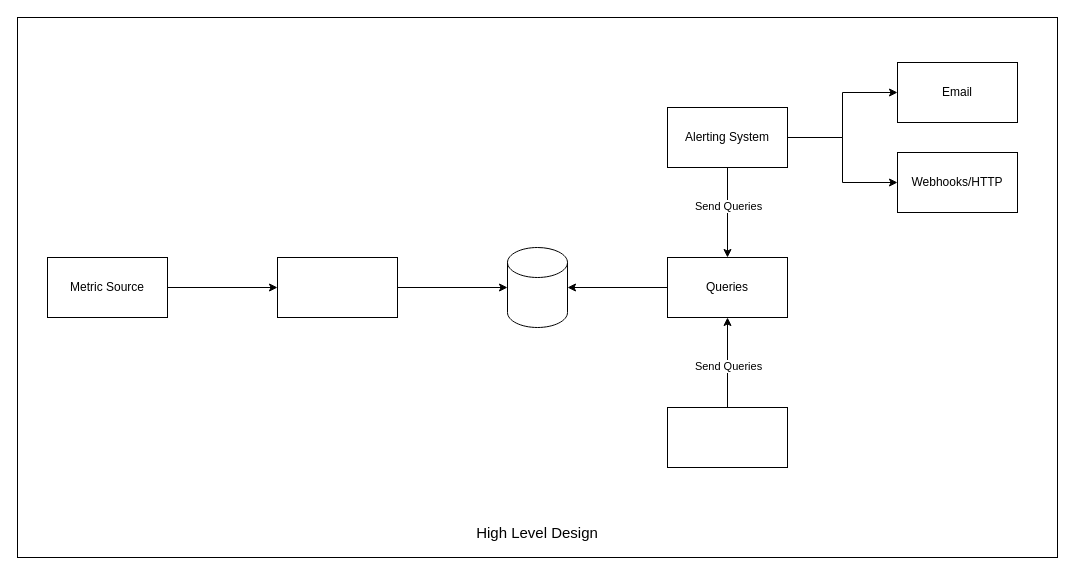
This 1075x575 diagram has some shape labels left out. Here are the shapes that lost their labels. From the top down, the centre of each, then its label:
(337,287): Metric Collector/Agents
(537,287): Time-Series DB
(727,437): Visualization
